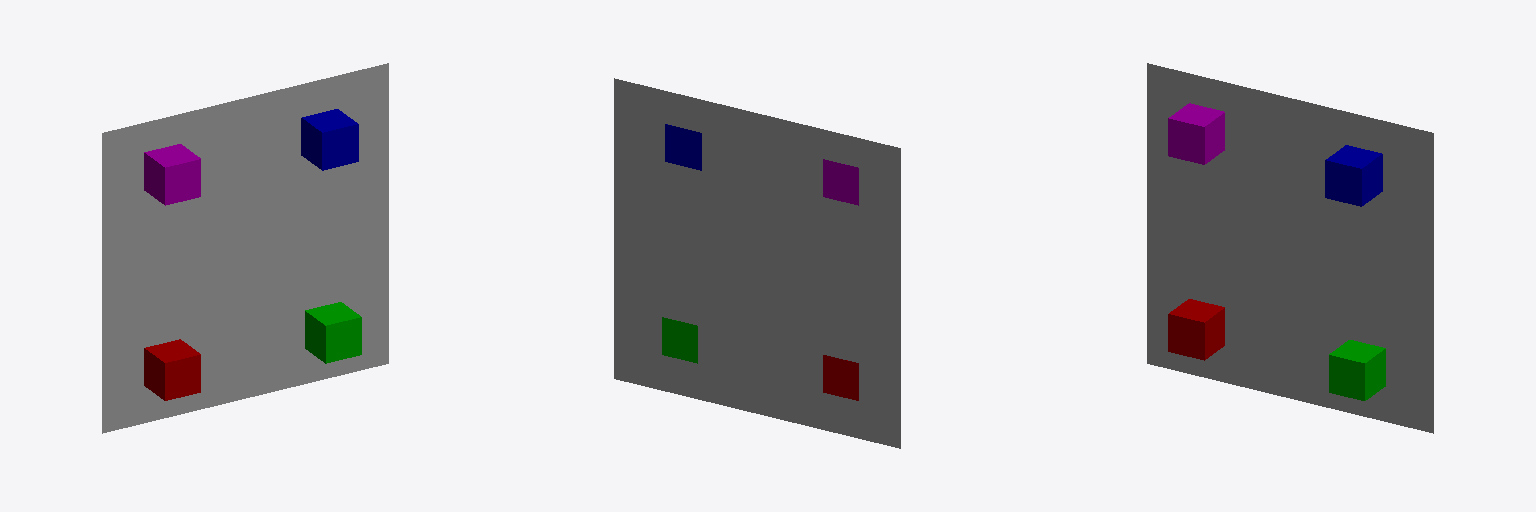
Rendered from simple2.obj.
3 renders of one model, left to right at view 1: azimuth 30°, elevation 25°; view 2: azimuth 150°, elevation 25°; view 3: azimuth 330°, elevation 25°, orthographic.
Visible parts, largest first — view 1: Plane_Plane_Plane, Cube1_Cube.001_Cube.002, Cube2_Cube.002_Cube.003, Cube3_Cube.003_Cube.004, Cube4_Cube_Cube.001; view 2: Plane_Plane_Plane, Cube1_Cube.001_Cube.002, Cube2_Cube.002_Cube.003, Cube3_Cube.003_Cube.004, Cube4_Cube_Cube.001; view 3: Plane_Plane_Plane, Cube1_Cube.001_Cube.002, Cube3_Cube.003_Cube.004, Cube4_Cube_Cube.001, Cube2_Cube.002_Cube.003.
Part boxes in pixels (x1,y1,x2,y2): Plane_Plane_Plane: (102, 63, 388, 433); Cube1_Cube.001_Cube.002: (301, 109, 358, 170); Cube2_Cube.002_Cube.003: (305, 302, 361, 363); Cube3_Cube.003_Cube.004: (144, 339, 200, 400); Cube4_Cube_Cube.001: (144, 144, 200, 205); Plane_Plane_Plane: (614, 78, 900, 448); Cube1_Cube.001_Cube.002: (665, 124, 701, 170); Cube2_Cube.002_Cube.003: (662, 317, 697, 363); Cube3_Cube.003_Cube.004: (823, 355, 858, 400); Cube4_Cube_Cube.001: (823, 159, 858, 205); Plane_Plane_Plane: (1147, 63, 1433, 433); Cube1_Cube.001_Cube.002: (1325, 145, 1382, 206); Cube3_Cube.003_Cube.004: (1168, 299, 1224, 360); Cube4_Cube_Cube.001: (1168, 103, 1224, 164); Cube2_Cube.002_Cube.003: (1329, 340, 1385, 400).
Size of the model in its own units: 15.84 by 15.84 by 2.